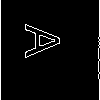A: (25, 24, 69, 59)
